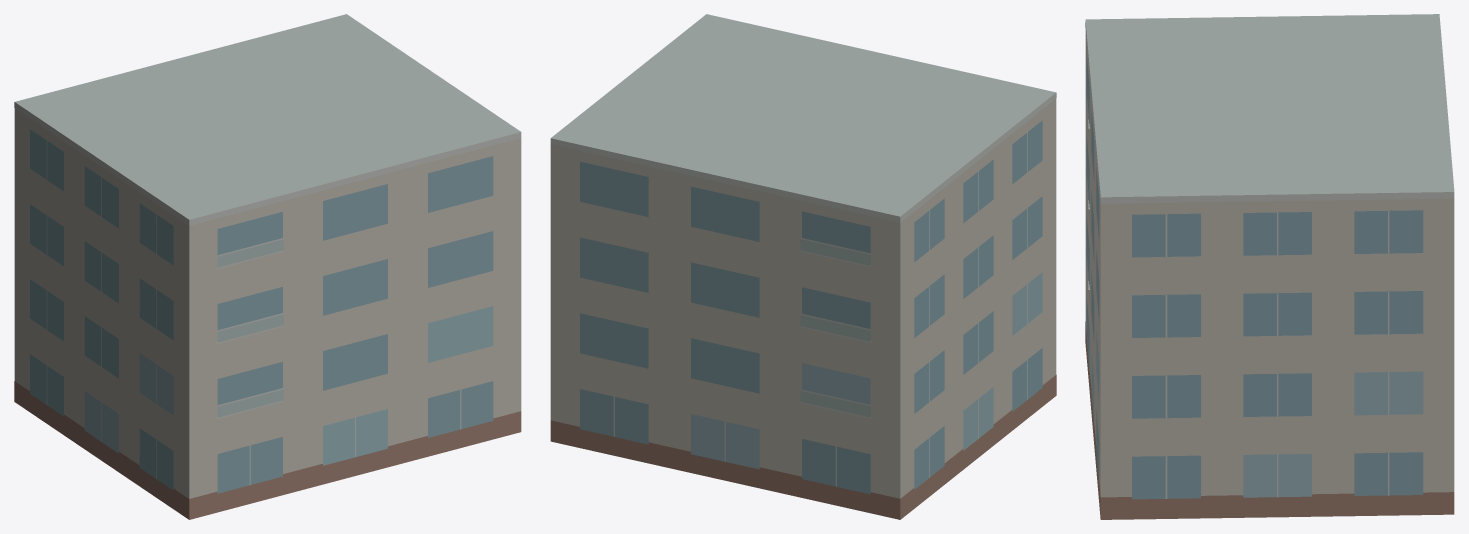
The model's file is residential-345a1a02-1481-419f-98a8-9fffe216b939.glb.
3 views of the same model, side by side, from view 1: azimuth 30°, elevation 25°; view 2: azimuth 150°, elevation 25°; view 3: azimuth 270°, elevation 25° (orthographic). The views are drawn at different scales.
Visible parts, largest first — view 1: residential-345a1a02-1481-419f-98a8-9fffe216b939.tmp; view 2: residential-345a1a02-1481-419f-98a8-9fffe216b939.tmp; view 3: residential-345a1a02-1481-419f-98a8-9fffe216b939.tmp.
Part boxes in pixels (x1,y1,x2,y2): residential-345a1a02-1481-419f-98a8-9fffe216b939.tmp: (14, 14, 521, 519); residential-345a1a02-1481-419f-98a8-9fffe216b939.tmp: (550, 14, 1056, 519); residential-345a1a02-1481-419f-98a8-9fffe216b939.tmp: (1085, 14, 1454, 519).
Bounding box in the file's own units: 14.87 × 12.2 × 12.66.
